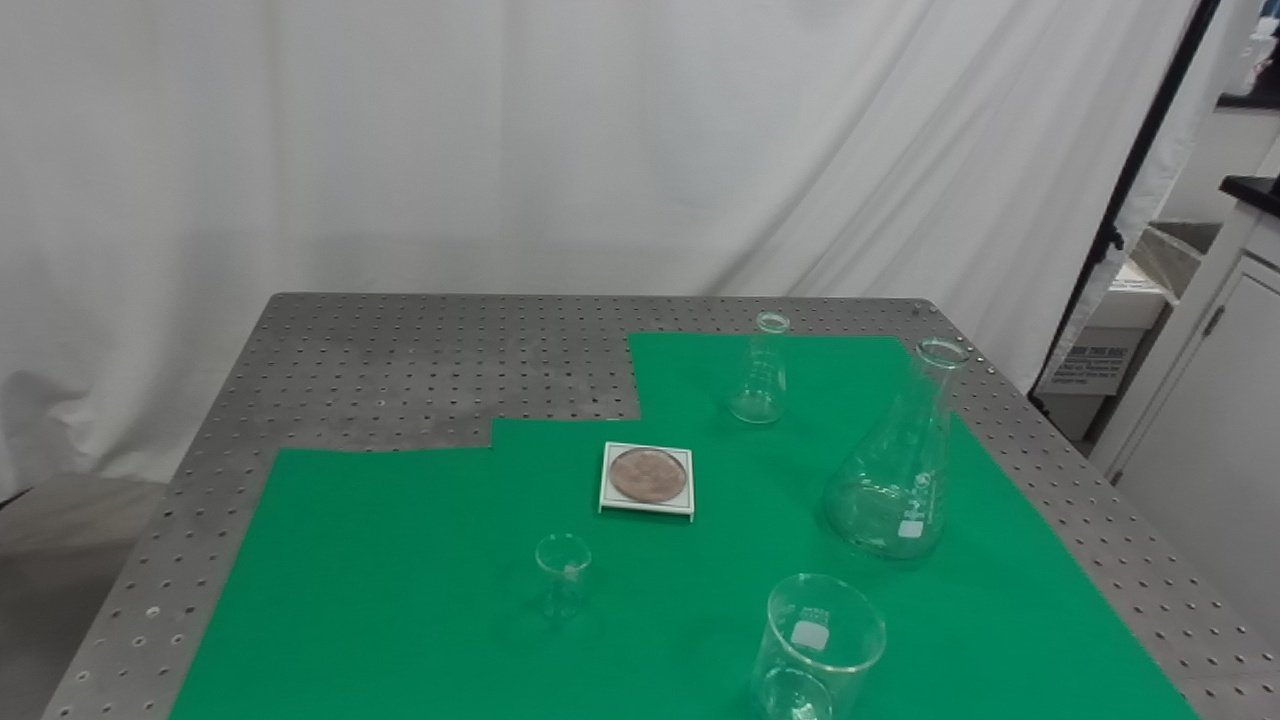glass: (815, 332, 975, 568), (745, 565, 891, 720), (593, 438, 701, 525), (720, 309, 794, 433), (529, 525, 599, 623)
